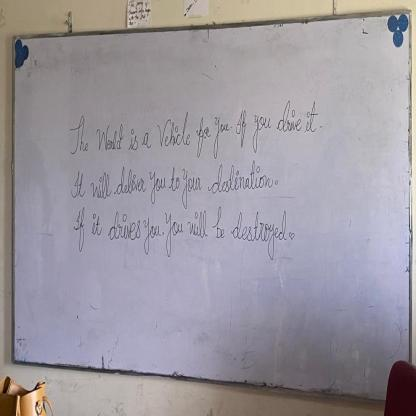Handwritten text: (69, 91, 318, 161), (73, 208, 292, 281), (70, 160, 274, 202)
Whiteboard: (9, 11, 412, 402)
